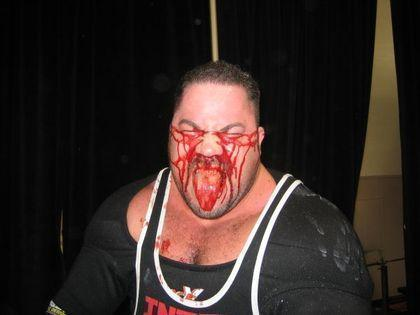Fire: (170, 126, 258, 211), (161, 240, 171, 252), (175, 258, 192, 264)
